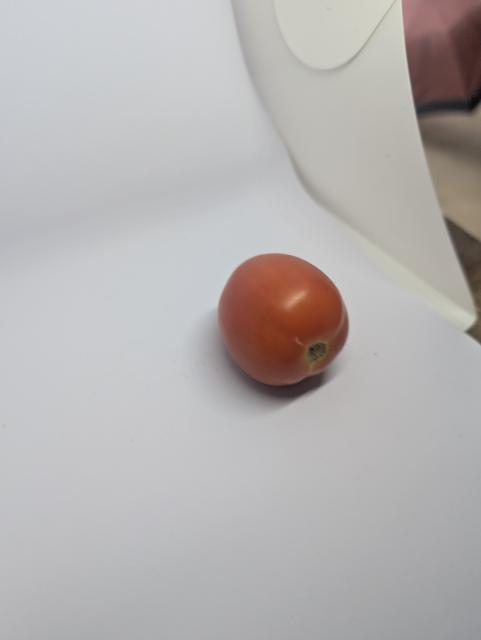red: (200, 237, 371, 404)
